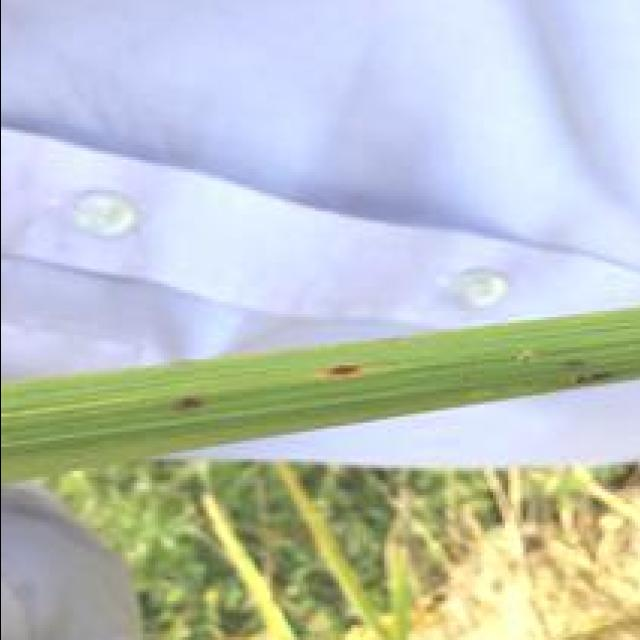Brown_Spot: (534, 356, 604, 389), (296, 354, 362, 386), (154, 390, 196, 404)
